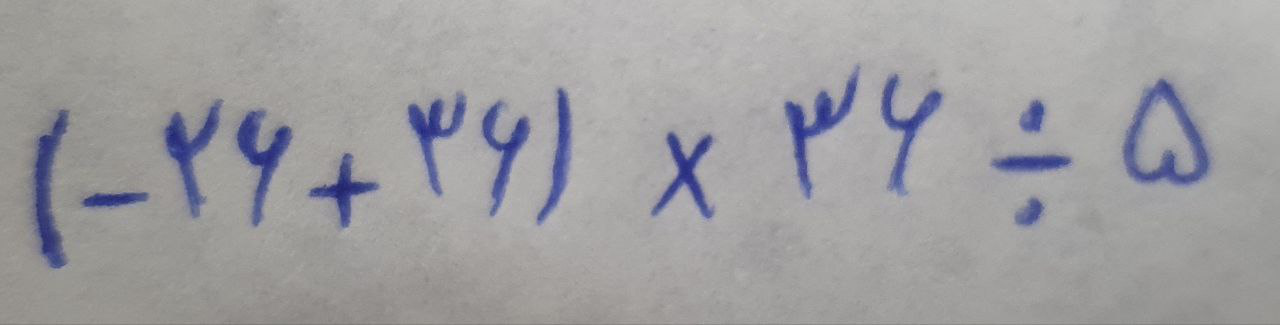character: (991, 100, 1076, 228), (785, 64, 862, 200), (1123, 78, 1212, 186), (880, 73, 945, 200), (482, 100, 544, 220), (164, 98, 224, 219), (236, 110, 294, 231), (408, 91, 470, 199), (34, 108, 72, 270), (649, 131, 714, 220), (308, 152, 381, 230), (534, 87, 575, 224), (83, 191, 148, 210)
